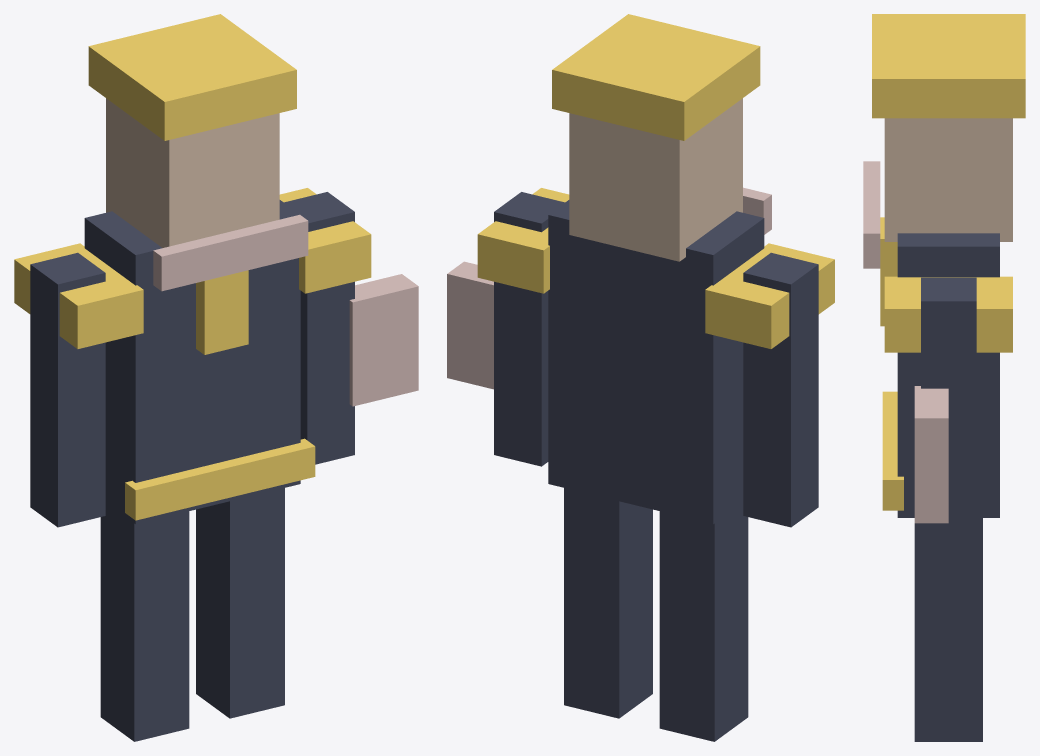
Rendered from 20_asha_voxmere_engineer_from_reality.glb.
3 views of the same model, side by side, from view 1: azimuth 30°, elevation 25°; view 2: azimuth 150°, elevation 25°; view 3: azimuth 270°, elevation 25° (orthographic).
Visible parts, largest first — view 1: Asha Voxmere, Engineer from Reality; view 2: Asha Voxmere, Engineer from Reality; view 3: Asha Voxmere, Engineer from Reality.
Boxes of the visible parts, x1,y1,x2,y2 form: Asha Voxmere, Engineer from Reality: (14,14,418,741); Asha Voxmere, Engineer from Reality: (447,14,834,741); Asha Voxmere, Engineer from Reality: (863,14,1025,741).
Bounding box in the file's own units: 0.9441 × 1.65 × 0.368.
